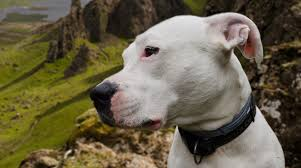dog: (88, 9, 289, 168)
